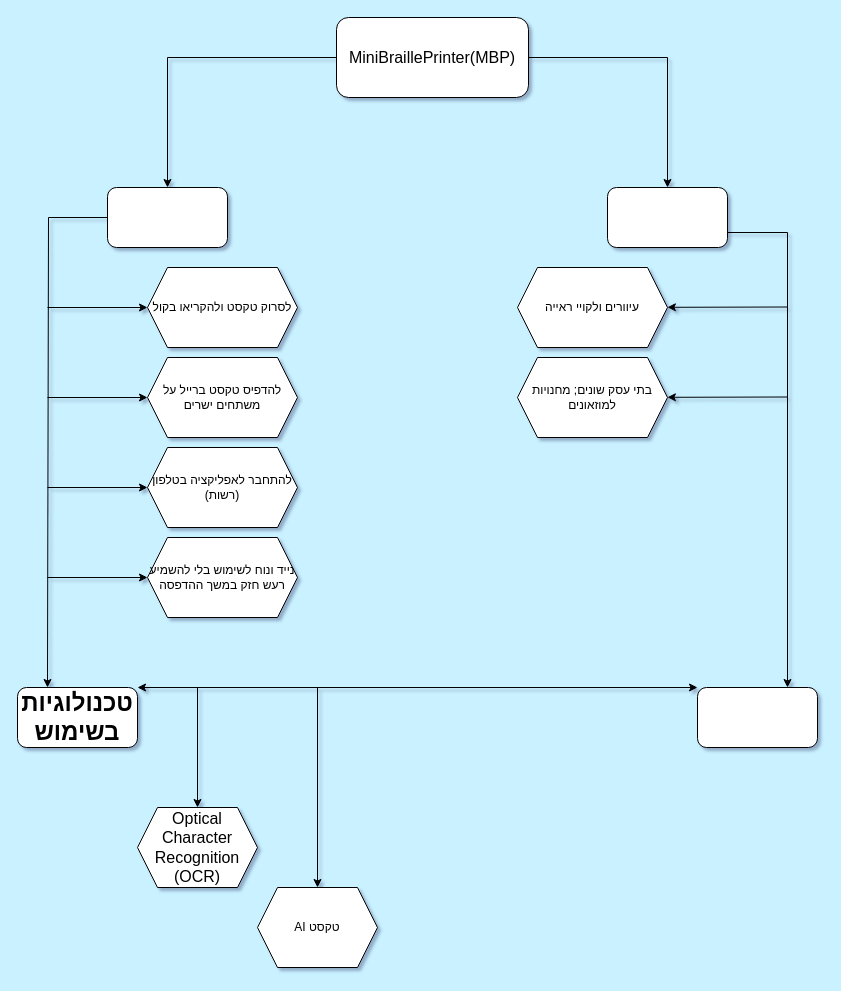
Some shapes in this 841 by 991 pixel diagram are drawn without their labels. The centre of each missing label's shape, as x and y in pixels:
"כלי עזר" goes at (757,717).
"פעולות" goes at (167,217).
"קהל יעד" goes at (667,217).
